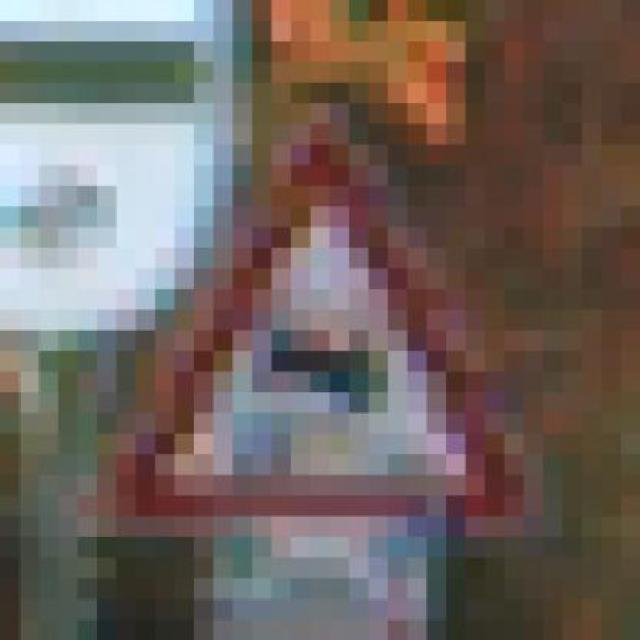Slippery Road Ahead: (77, 61, 543, 537)
